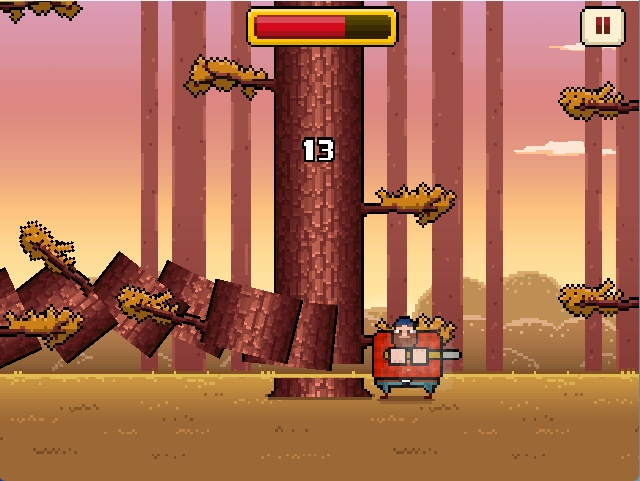left_obs: (182, 51, 280, 108)
right_obs: (358, 180, 465, 233)
timberman: (357, 287, 466, 414)
